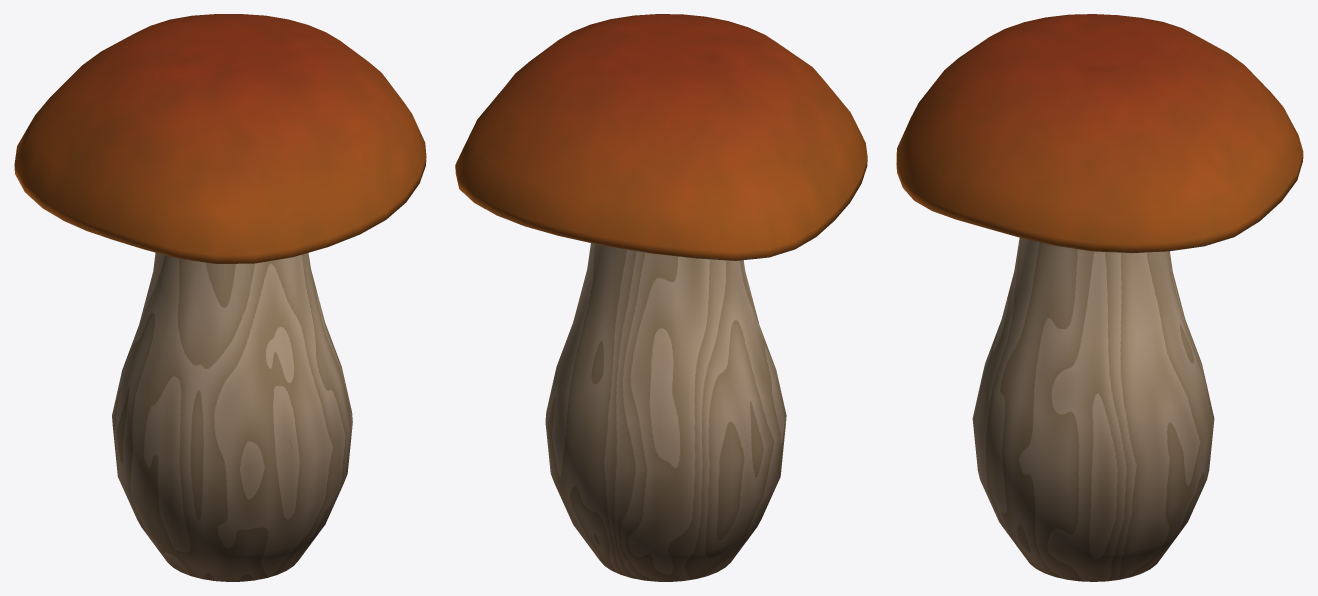
The model's file is KingMush.glb.
3 renders of one model, left to right at view 1: azimuth 30°, elevation 25°; view 2: azimuth 150°, elevation 25°; view 3: azimuth 270°, elevation 25°, orthographic.
Parts seen in each view (by area): view 1: Circle; view 2: Circle; view 3: Circle.
Part boxes in pixels (x1,y1,x2,y2): Circle: (14, 14, 426, 581); Circle: (455, 14, 867, 581); Circle: (896, 14, 1303, 581).
Size of the model in its own units: 7.82 by 11.11 by 8.11.
Materials: 2 (2 with a texture image).
